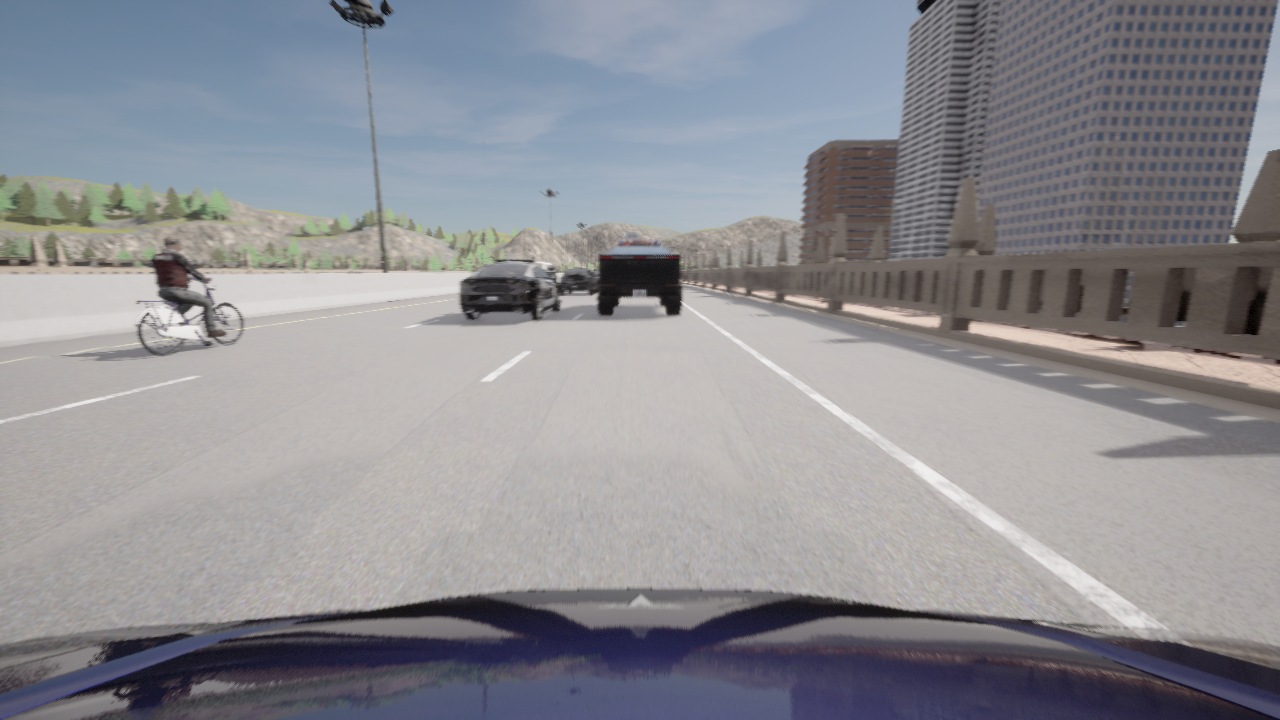cyclist: (0, 588, 1279, 719), (136, 278, 243, 355), (460, 258, 560, 319), (597, 246, 682, 314), (560, 268, 598, 294), (618, 233, 660, 245), (533, 261, 557, 280), (592, 270, 599, 283)
